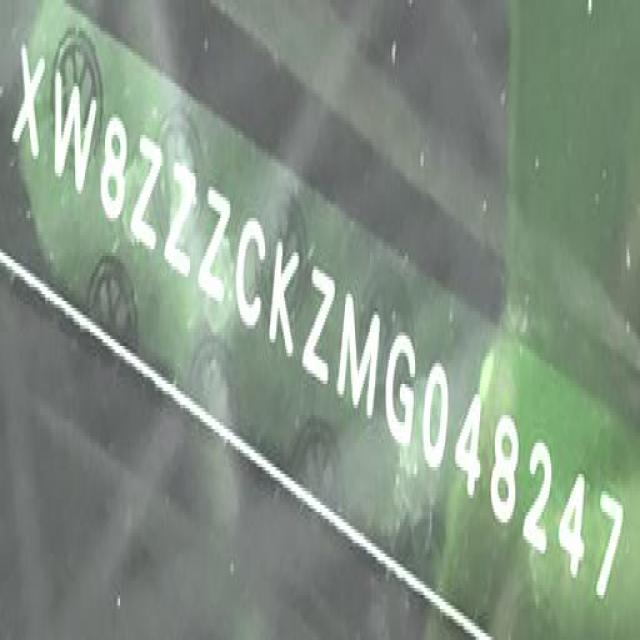0: (422, 359, 450, 479)
2: (524, 441, 554, 559)
4: (456, 385, 484, 509), (557, 463, 585, 586)
7: (595, 489, 626, 608)
8: (491, 411, 520, 535), (101, 108, 127, 230)
C: (235, 200, 267, 346)
G: (386, 312, 418, 446)
K: (269, 233, 299, 367)
M: (335, 292, 380, 422)
W: (53, 40, 95, 207)
X: (9, 38, 45, 176)
Z: (199, 166, 231, 320), (130, 110, 162, 261), (304, 241, 334, 400), (166, 164, 197, 291)
